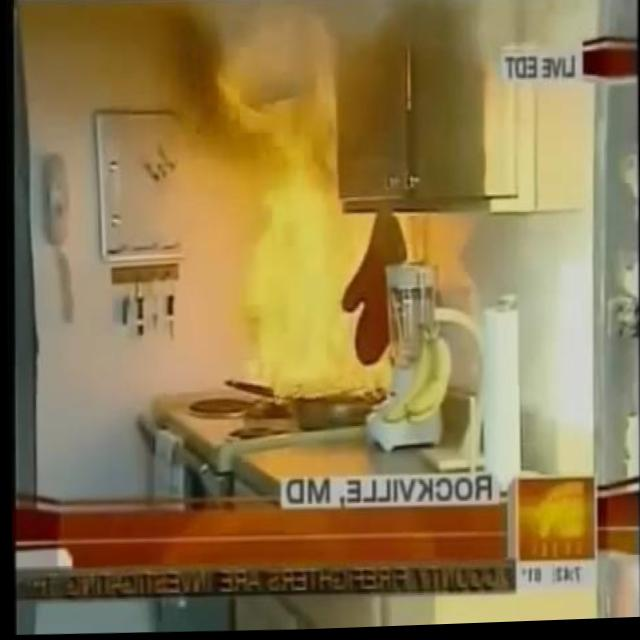fire: (222, 161, 402, 410)
